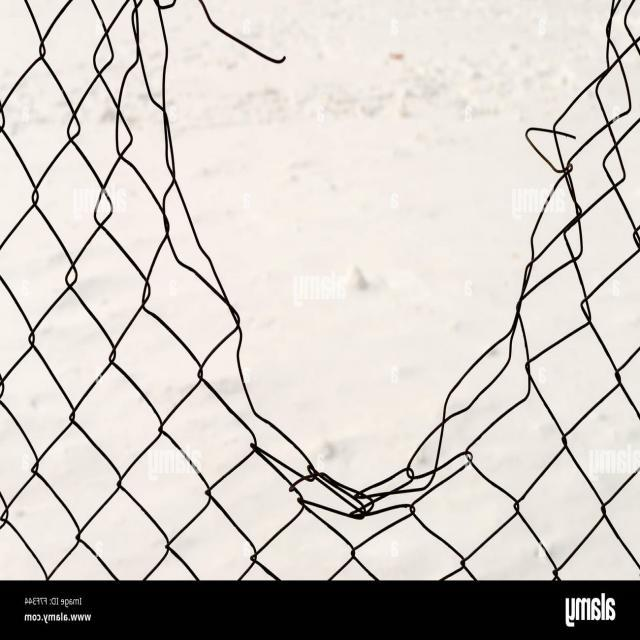fence line: (157, 6, 594, 492)
